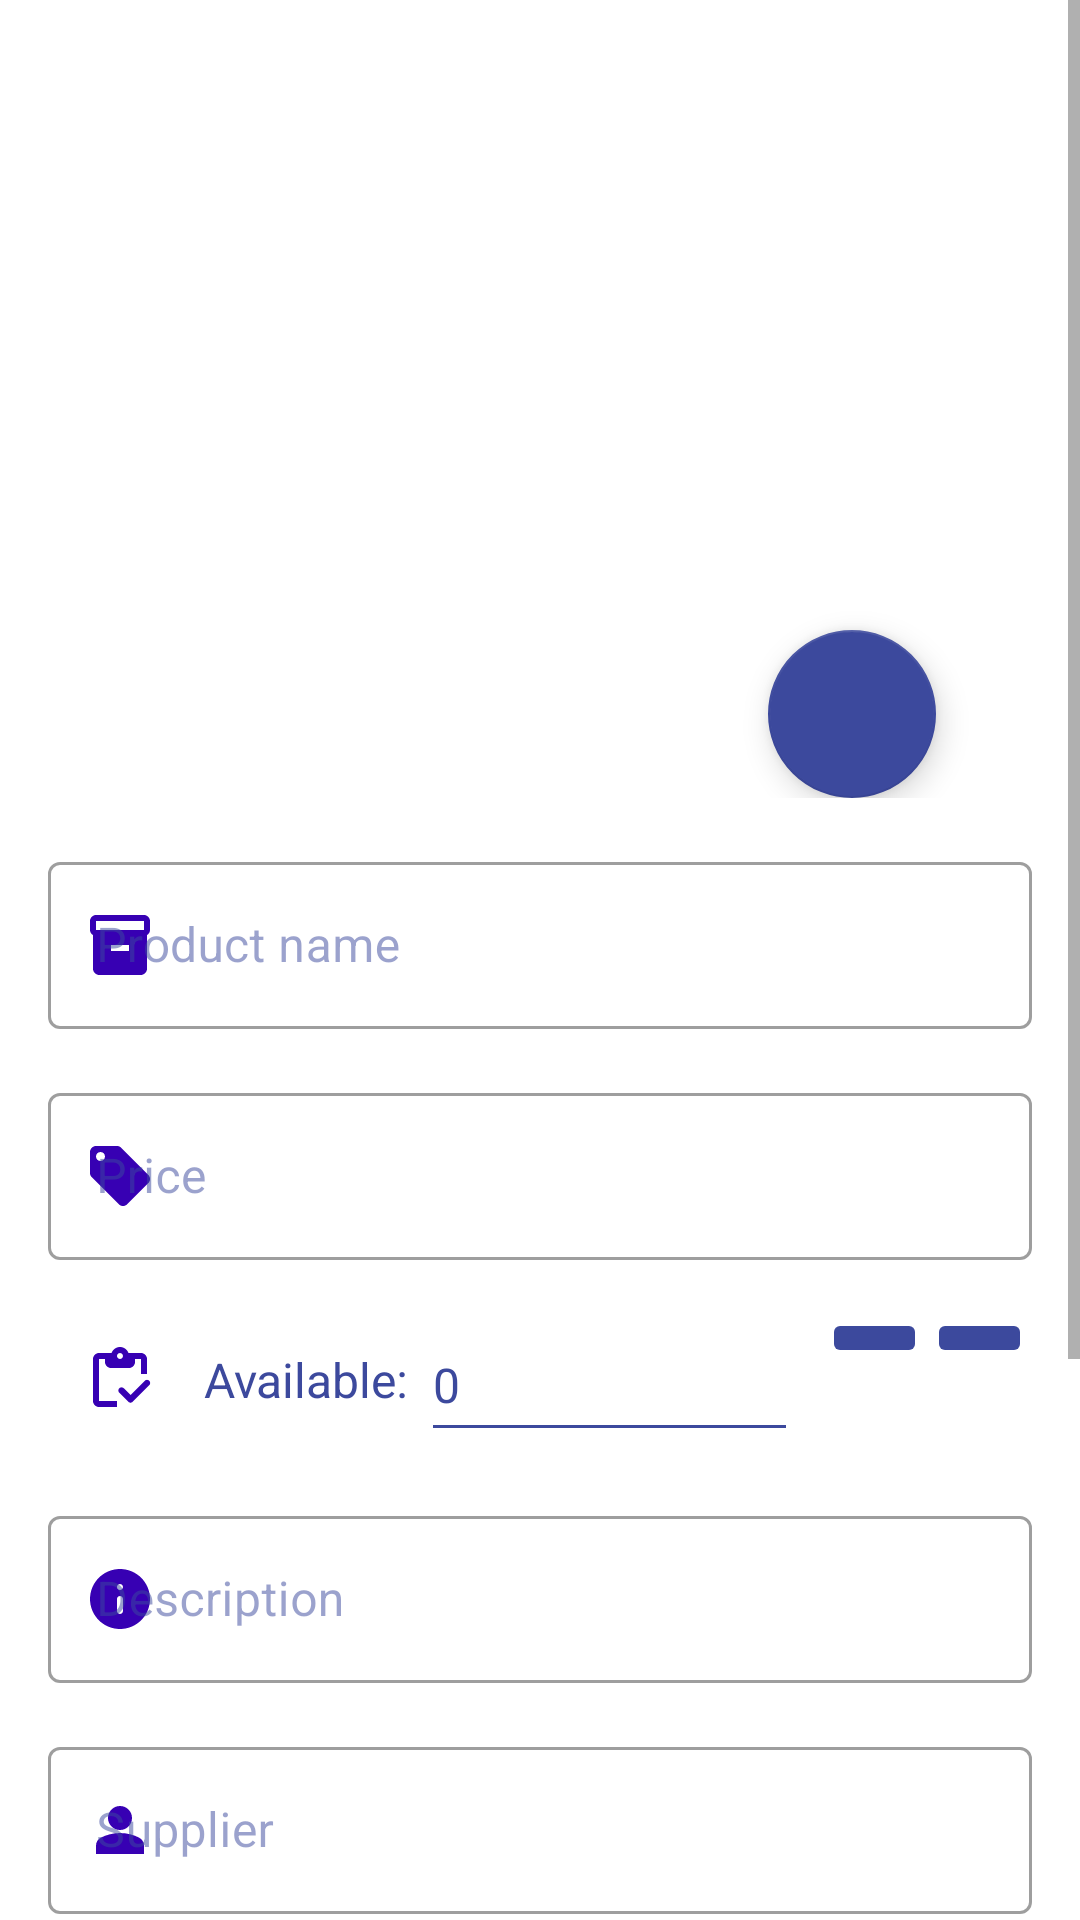

Icon bounding boxes for this 1080 x 1920 phone screenshot, format (x1, y1, x2, y2):
inventory: (93, 1347, 150, 1407)
